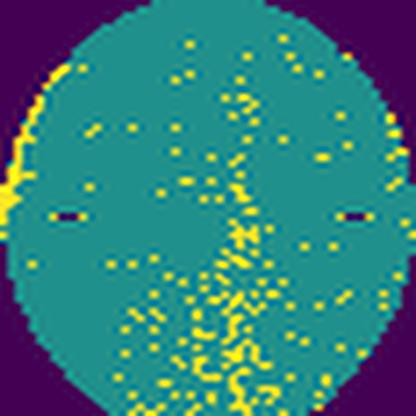Edge-Loc: (0, 54, 79, 238)
